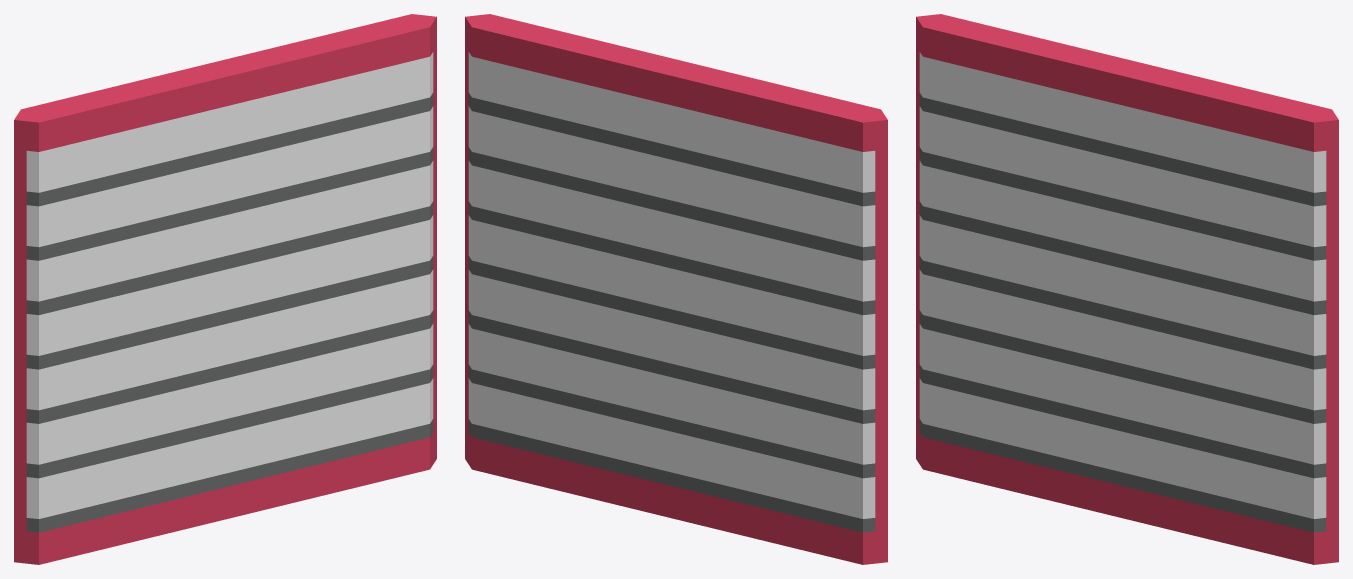
The model's file is glass.fbx.
3 renders of one model, left to right at view 1: azimuth 30°, elevation 25°; view 2: azimuth 150°, elevation 25°; view 3: azimuth 330°, elevation 25°, orthographic.
Visible parts, largest first — view 1: Cube; view 2: Cube; view 3: Cube.
Boxes of the visible parts, x1,y1,x2,y2 form: Cube: (14,14,436,564); Cube: (465,14,887,564); Cube: (916,14,1338,564).
Bounding box in the file's own units: 200 × 200 × 14.8.
